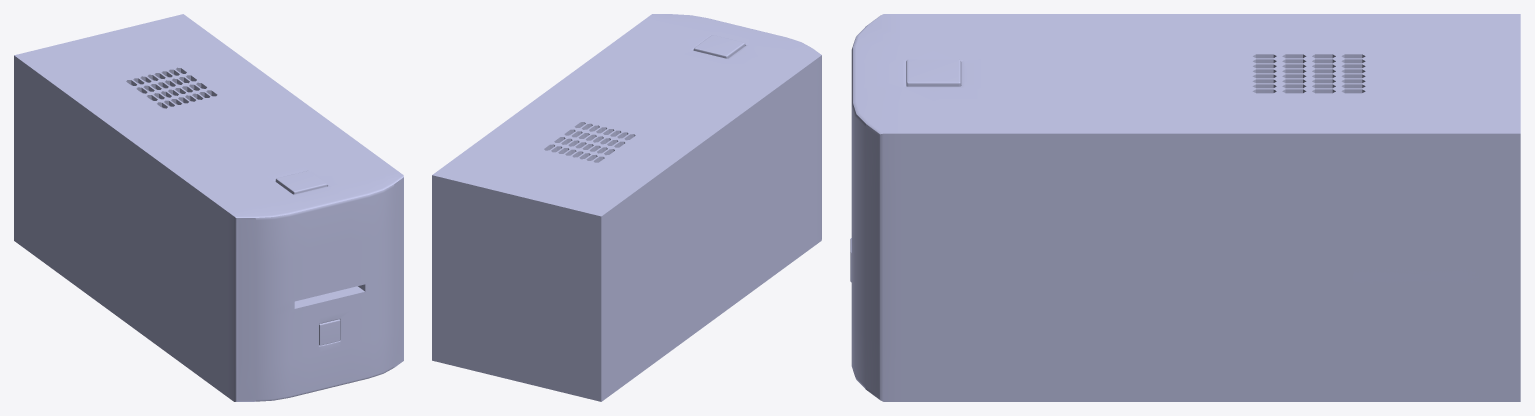
Rendered from badgePrinter_mesh_WIP2.fbx.
3 views of the same model, side by side, from view 1: azimuth 30°, elevation 25°; view 2: azimuth 150°, elevation 25°; view 3: azimuth 270°, elevation 25° (orthographic). The views are drawn at different scales.
Parts seen in each view (by area): view 1: badgePrinter_mesh, badgePrinter__topButton_mesh, badgePrinter__bottomButton_mesh; view 2: badgePrinter_mesh, badgePrinter__topButton_mesh; view 3: badgePrinter_mesh, badgePrinter__topButton_mesh.
Part boxes in pixels (left/top/right/bottom): badgePrinter_mesh: left=14, top=14, right=403, bottom=401; badgePrinter__topButton_mesh: left=275, top=170, right=327, bottom=194; badgePrinter__bottomButton_mesh: left=319, top=319, right=340, bottom=345; badgePrinter_mesh: left=432, top=14, right=821, bottom=401; badgePrinter__topButton_mesh: left=693, top=35, right=745, bottom=58; badgePrinter_mesh: left=851, top=14, right=1520, bottom=401; badgePrinter__topButton_mesh: left=906, top=59, right=961, bottom=86.
Bounding box in the file's own units: 3.09 × 3.27 × 7.32.
